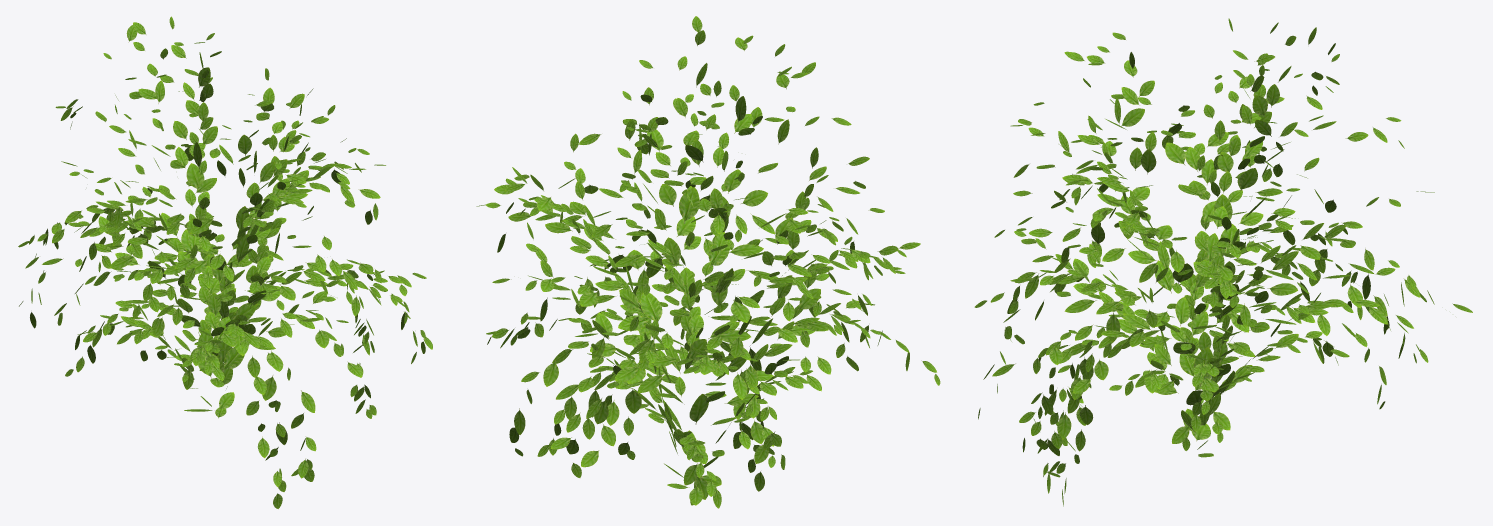
File: Tree_Leaves01.fbx
3 renders of one model, left to right at view 1: azimuth 30°, elevation 25°; view 2: azimuth 150°, elevation 25°; view 3: azimuth 270°, elevation 25°, orthographic. The views are drawn at different scales.
Visible parts, largest first — view 1: Tree_Leaves01; view 2: Tree_Leaves01; view 3: Tree_Leaves01.
Boxes of the visible parts, x1,y1,x2,y2 form: Tree_Leaves01: (18, 16, 432, 508); Tree_Leaves01: (476, 16, 940, 508); Tree_Leaves01: (974, 18, 1472, 506).
Bounding box in the file's own units: 480 × 498 × 438.
